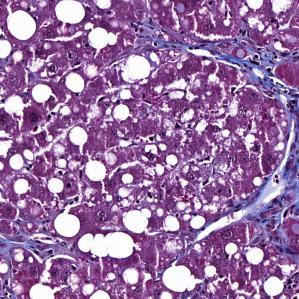fibrosis: (247, 163, 299, 251), (219, 41, 299, 93)
